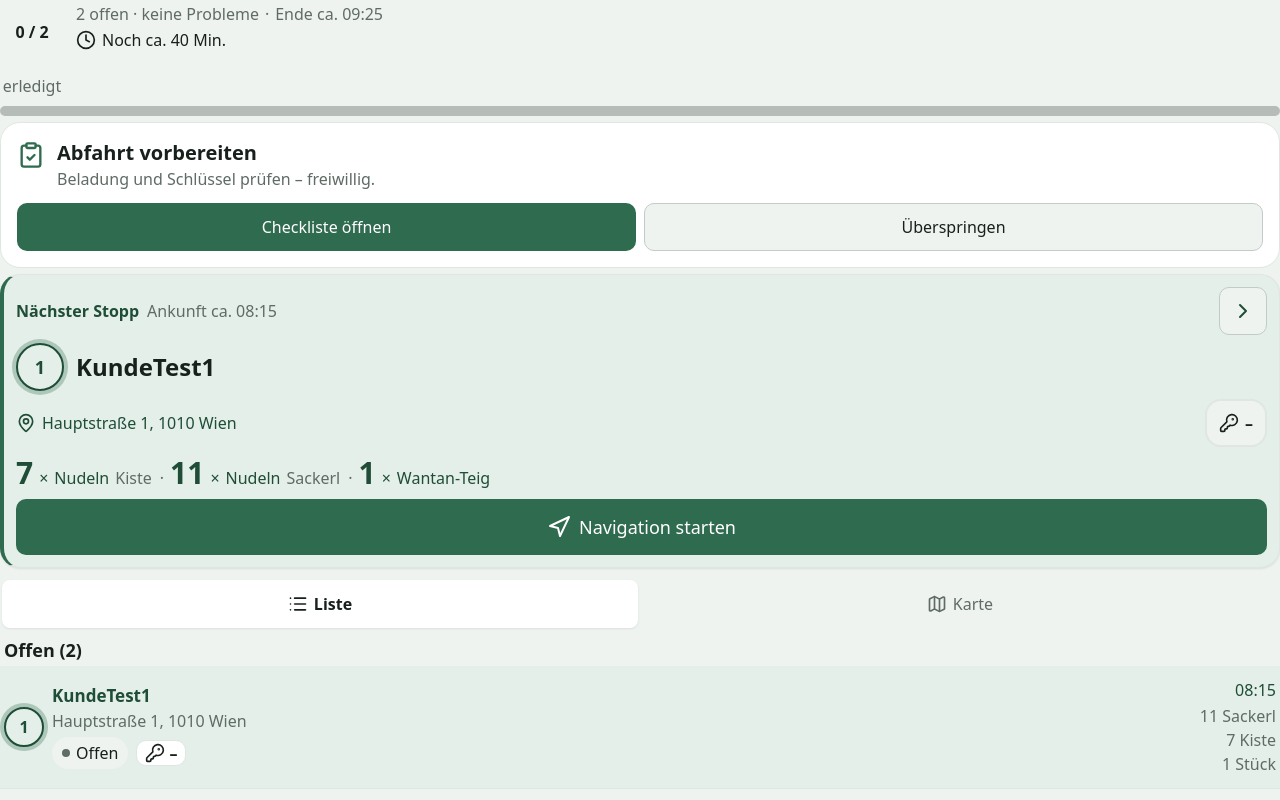
Test case: departure checklist in de › opening it records the loading start and lists totals, keys and fixed items
Click the button with test id "departure-open".
click(326, 227)  # box [17, 203, 636, 251]
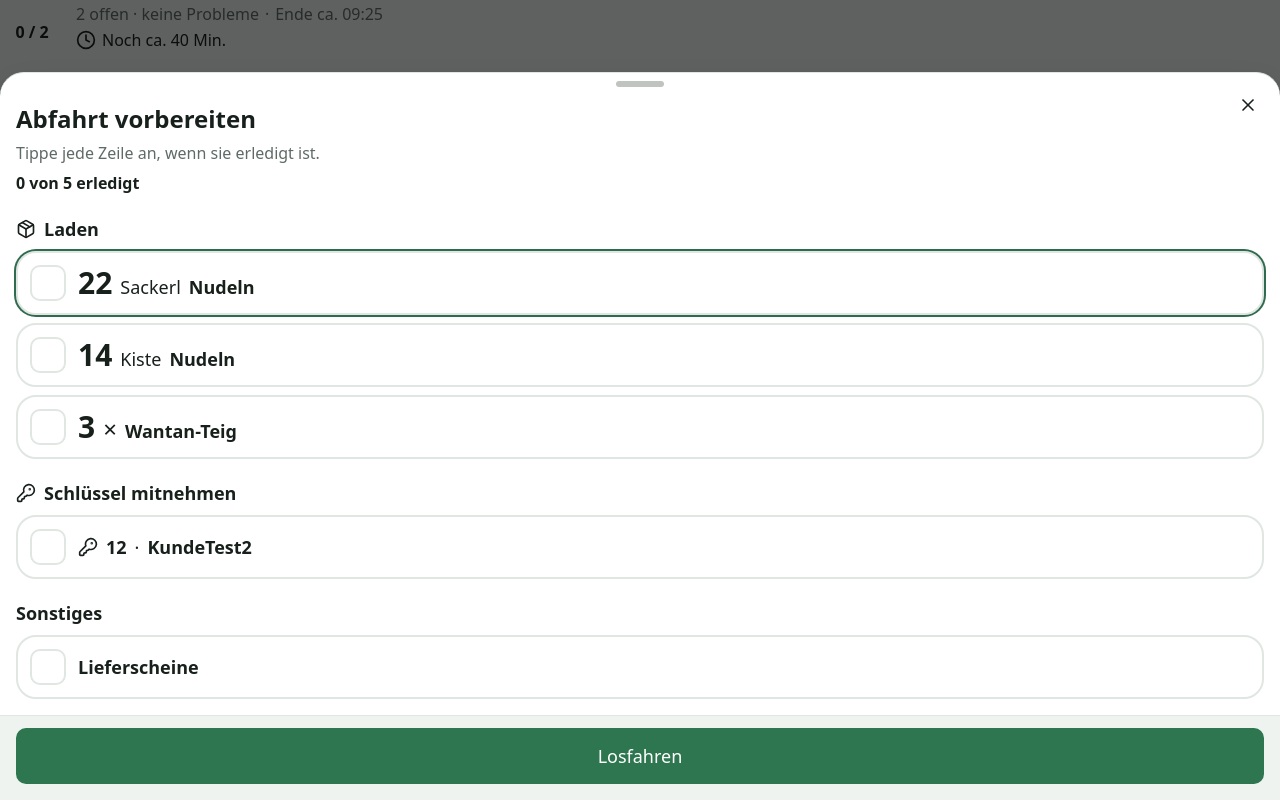
Check: the checkbox with test id "departure-product" shows "×", box [16, 395, 1264, 459]
Check: the checkbox with test id "departure-product" shows "Wantan-Teig", box [16, 395, 1264, 459]
Check: the number of checkboxes with test id "departure-key" is 1, box [16, 515, 1264, 579]
